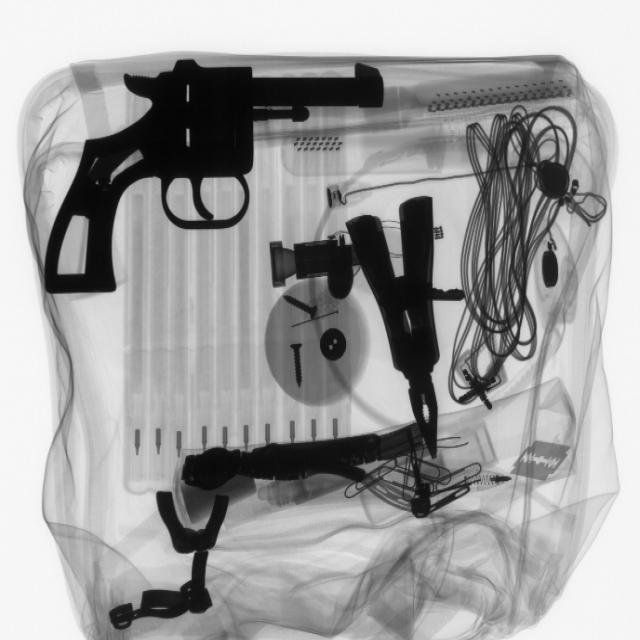BLADE: (510, 434, 579, 487)
GUN: (41, 63, 386, 305)
SCREW: (271, 288, 327, 329), (281, 334, 317, 390)
